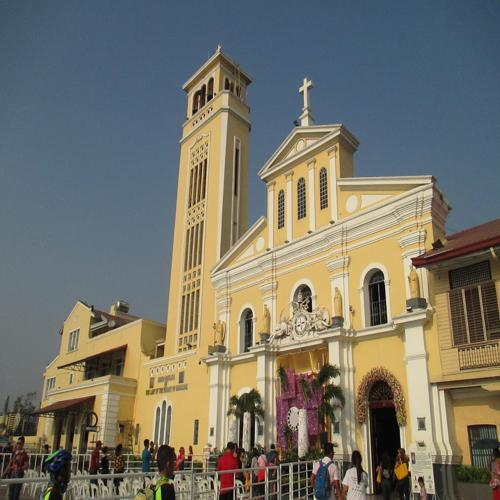Manaoag Church: (157, 30, 444, 500)
